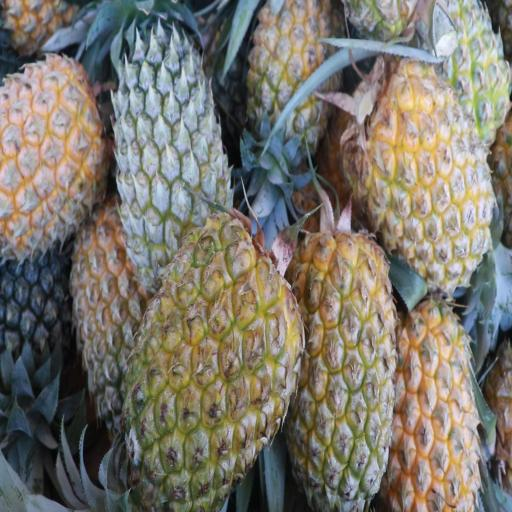------------------------------: (72, 206, 162, 418), (250, 1, 342, 158)
Pineapple - v8 v1: (130, 217, 295, 512), (292, 235, 394, 511), (361, 74, 491, 276), (0, 44, 107, 236), (392, 299, 480, 512)
